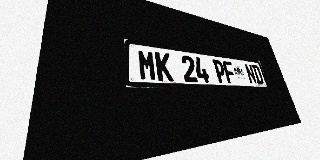2: (180, 55, 198, 82)
4: (193, 57, 210, 83)
D: (251, 65, 264, 84)
F: (222, 61, 237, 84)
K: (155, 51, 174, 81)
M: (137, 49, 157, 81)
N: (244, 64, 258, 84)
P: (212, 59, 228, 83)
